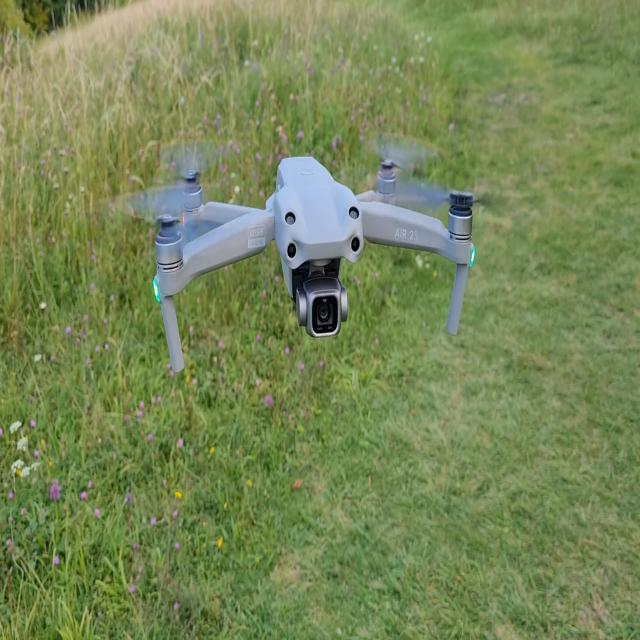drone: (99, 152, 481, 374)
